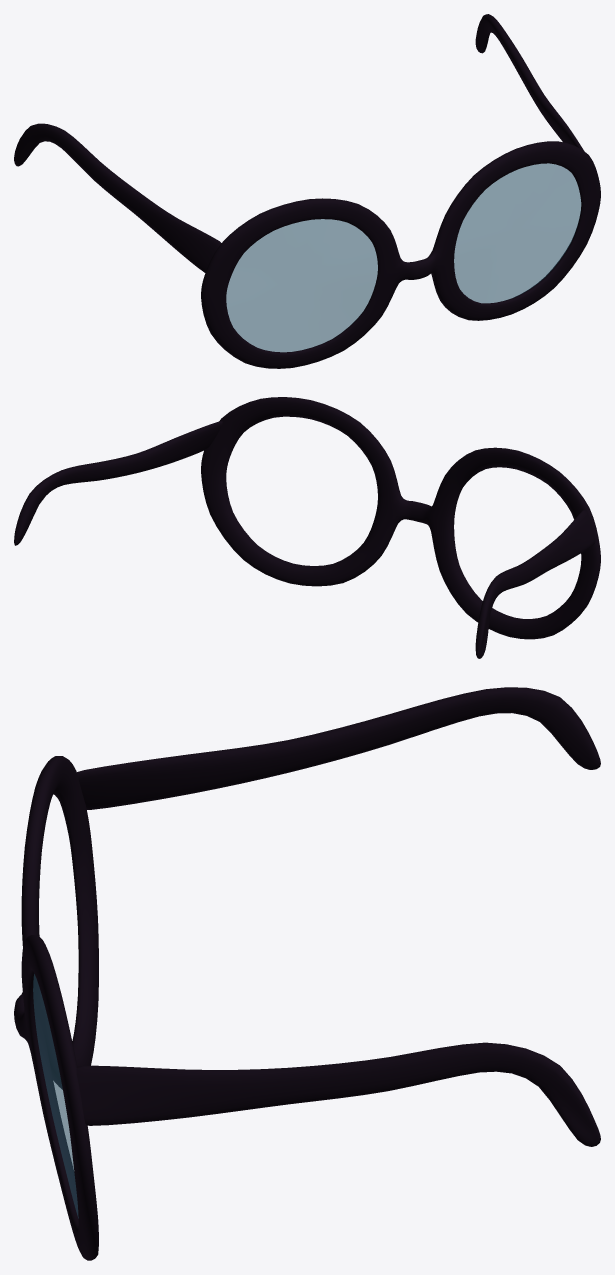
File: accessories_round.glb
The picture shows the model from 3 angles, top to bottom: view 1: azimuth 30°, elevation 25°; view 2: azimuth 150°, elevation 25°; view 3: azimuth 270°, elevation 25°; orthographic projection. The views are drawn at different scales.
Visible parts, largest first — view 1: accessories_round; view 2: accessories_round; view 3: accessories_round.
Part boxes in pixels (left/top/right/bottom): accessories_round: left=14, top=14, right=600, bottom=368; accessories_round: left=14, top=397, right=600, bottom=658; accessories_round: left=14, top=687, right=600, bottom=1260.
Size of the model in its own units: 0.3568 by 0.1282 by 0.2335.
2 materials, 1 textured.
